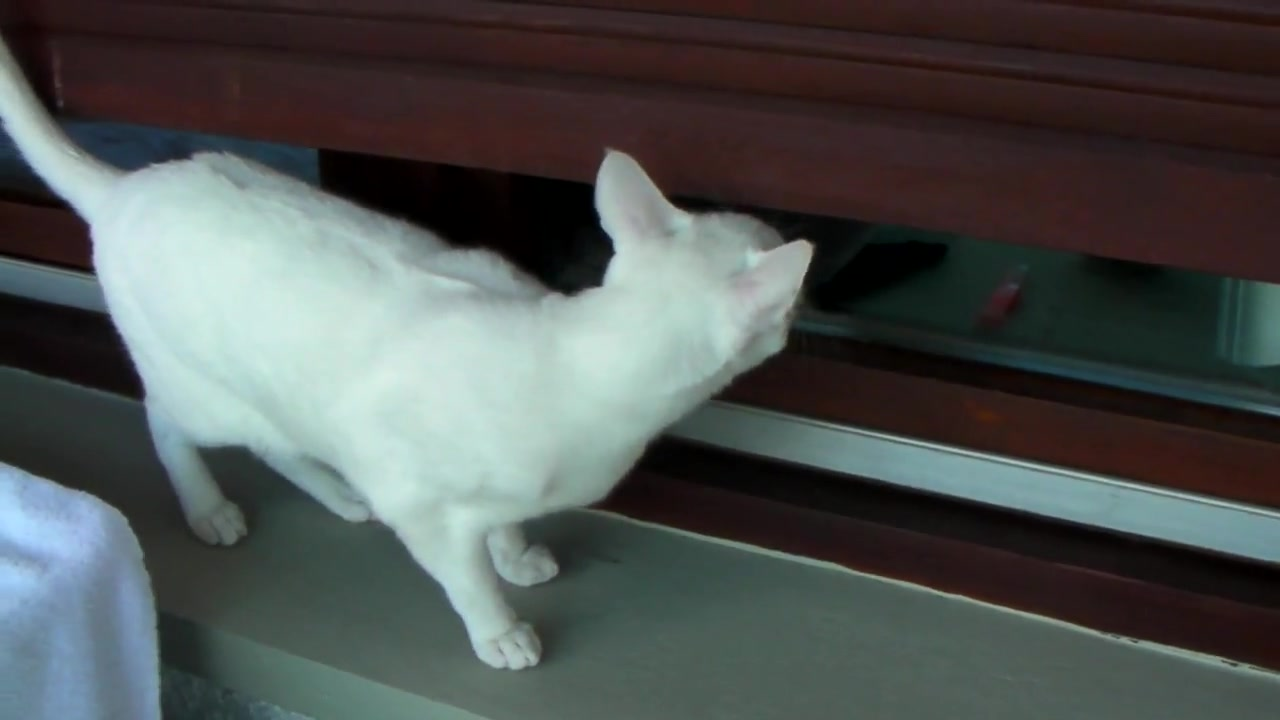cat: (1, 30, 815, 672)
